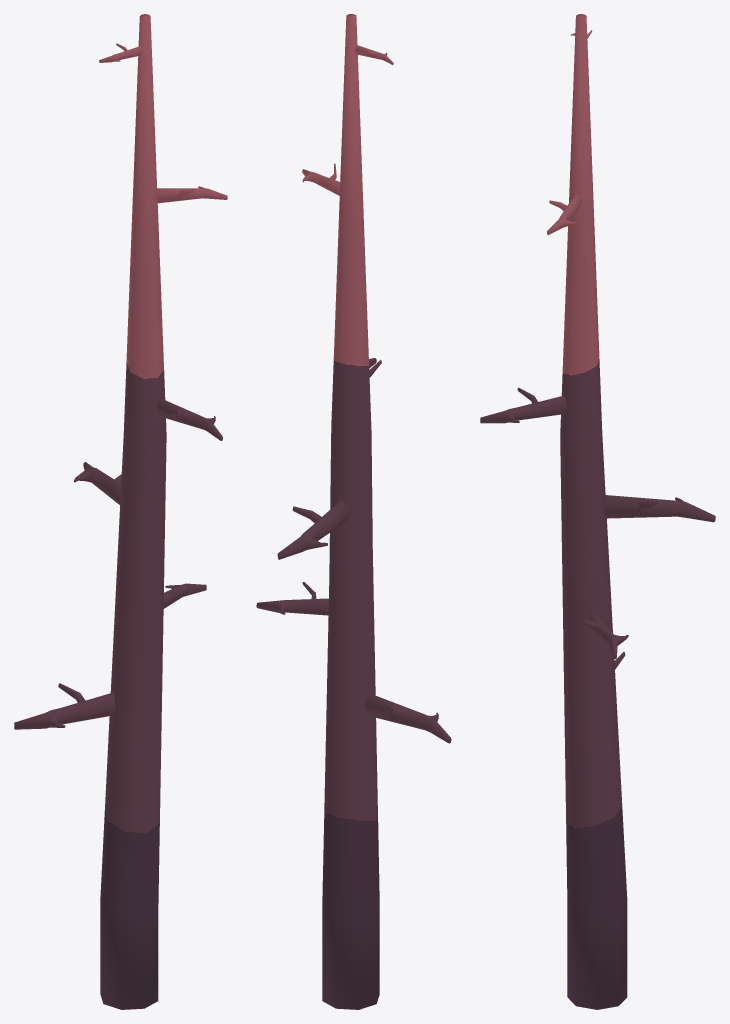
File: tree07.glb
3 views of the same model, side by side, from view 1: azimuth 30°, elevation 25°; view 2: azimuth 150°, elevation 25°; view 3: azimuth 270°, elevation 25° (orthographic).
Visible parts, largest first — view 1: Tree07; view 2: Tree07; view 3: Tree07.
Part boxes in pixels (x1,y1,x2,y2): Tree07: (14, 14, 227, 1009); Tree07: (256, 14, 451, 1009); Tree07: (480, 14, 715, 1009).
Bounding box in the file's own units: 6.62 × 32.1 × 6.96.
1 material, 1 textured.
